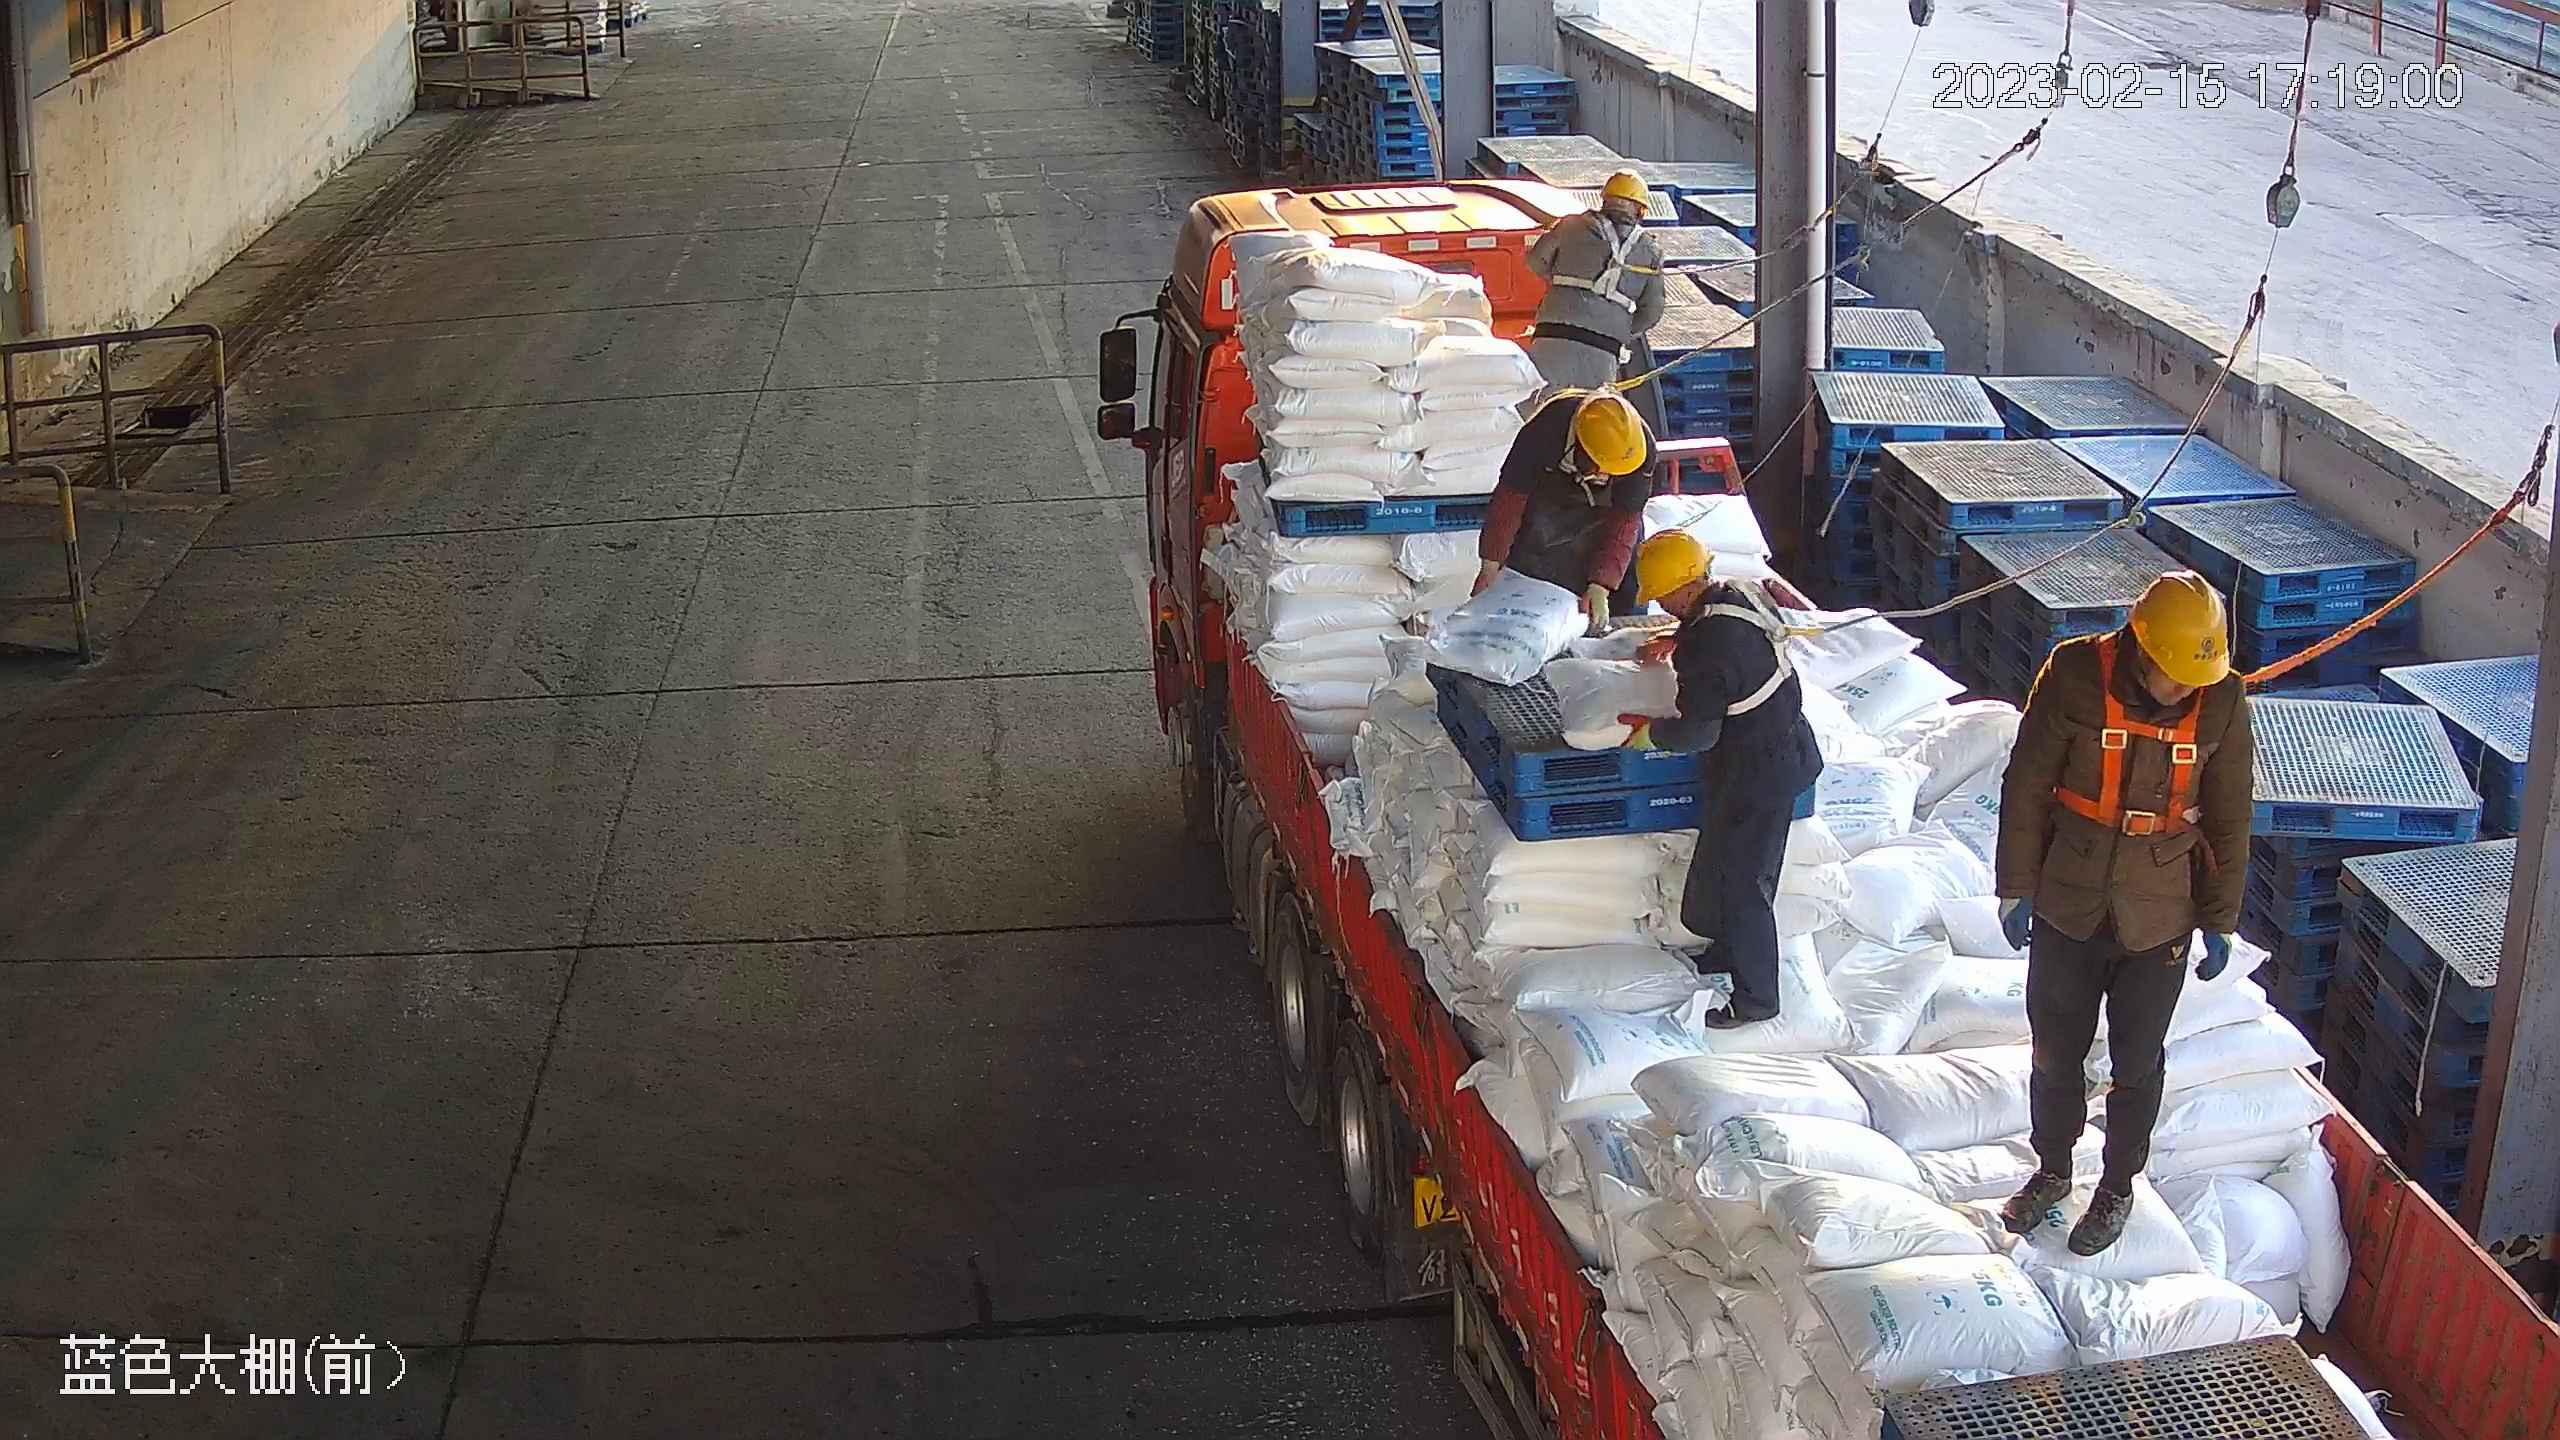belt: (2055, 632, 2201, 840), (1677, 582, 1801, 716), (1552, 373, 1645, 488), (1551, 210, 1646, 312)
head: (2030, 569, 2251, 725), (1630, 527, 1794, 671), (1527, 387, 1657, 481)
helmet: (2128, 569, 2234, 686), (1630, 528, 1718, 605), (1575, 394, 1648, 476), (1599, 169, 1651, 210)
people: (1991, 570, 2255, 1256), (1618, 525, 1829, 1031), (1469, 385, 1655, 618), (1524, 169, 1668, 392)
truck: (1146, 175, 2560, 1440)
